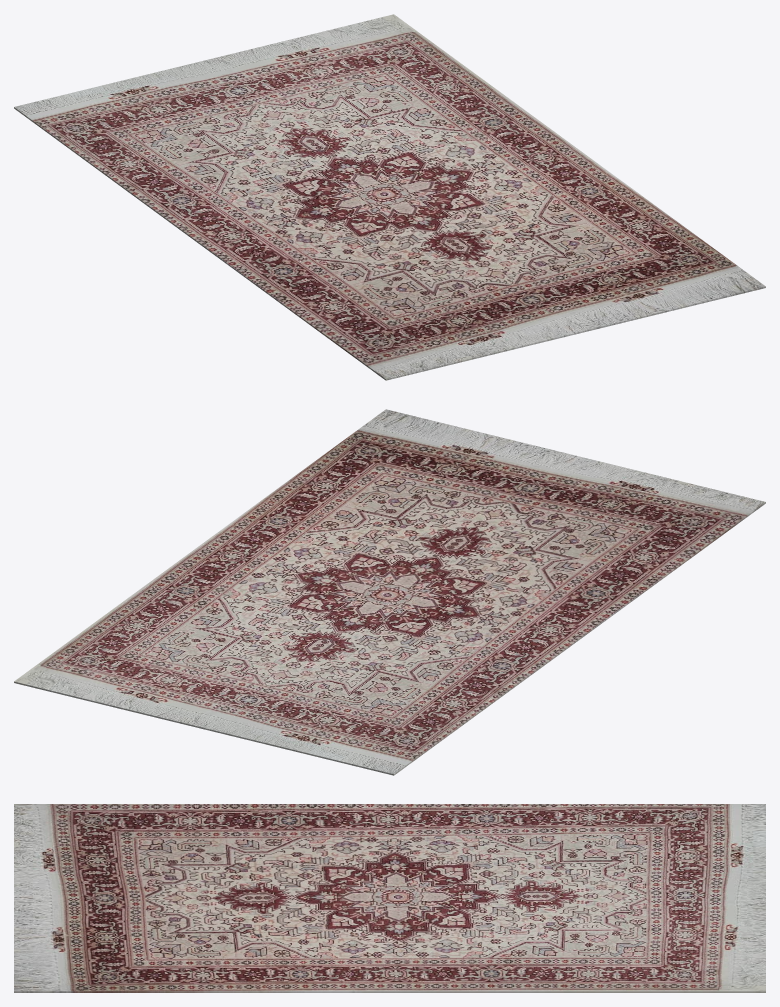
The model's file is carpet.gltf.
3 views of the same model, one above another, from view 1: azimuth 30°, elevation 25°; view 2: azimuth 150°, elevation 25°; view 3: azimuth 270°, elevation 25° (orthographic).
Bounding box in the file's own units: 1.41 × 0.0052 × 2.39.
1 material, 1 textured.
